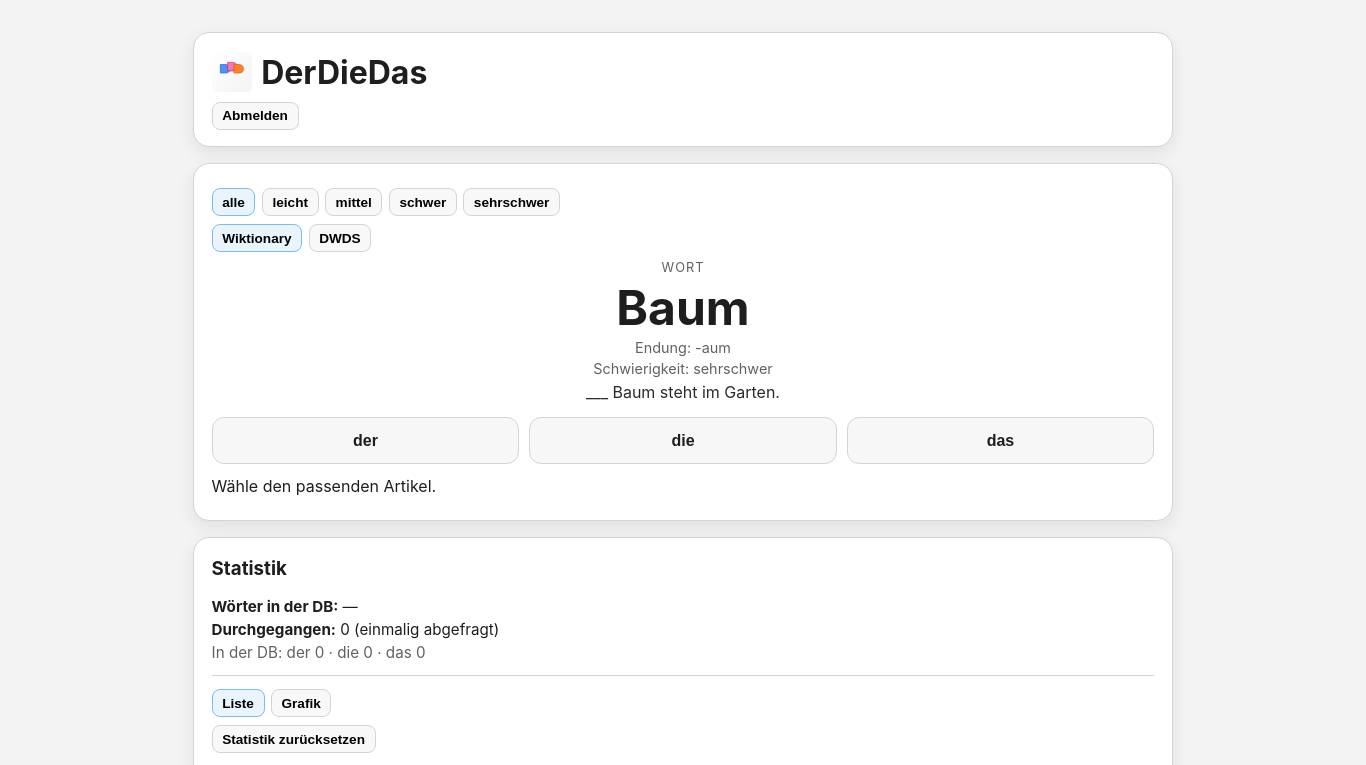
Scenario: App.vue › gibt feedback bei richtiger antwort
This screenshot has width=1366, height=765.
Step 1. Click the button "der" → click(366, 441), box [212, 417, 520, 464]
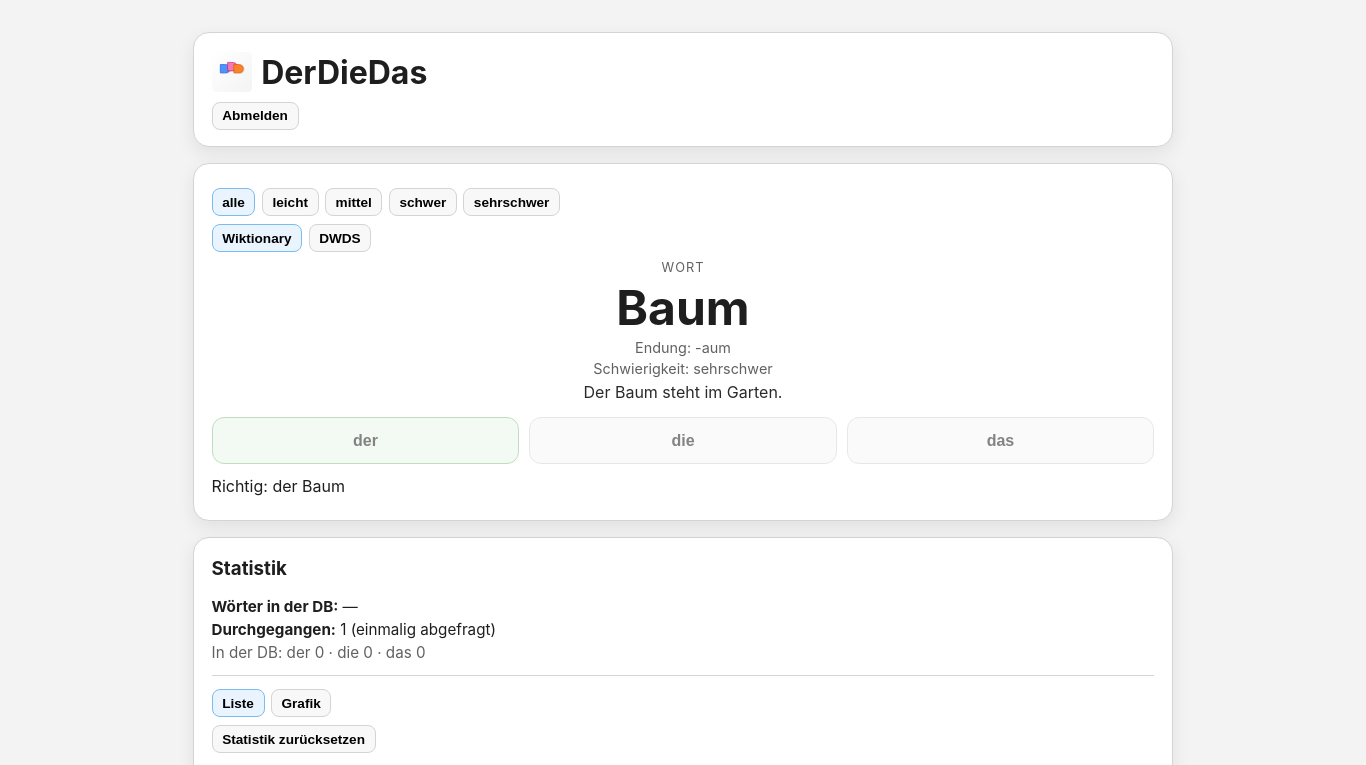
Check: the text "Richtig" is shown, box [212, 476, 345, 496]
